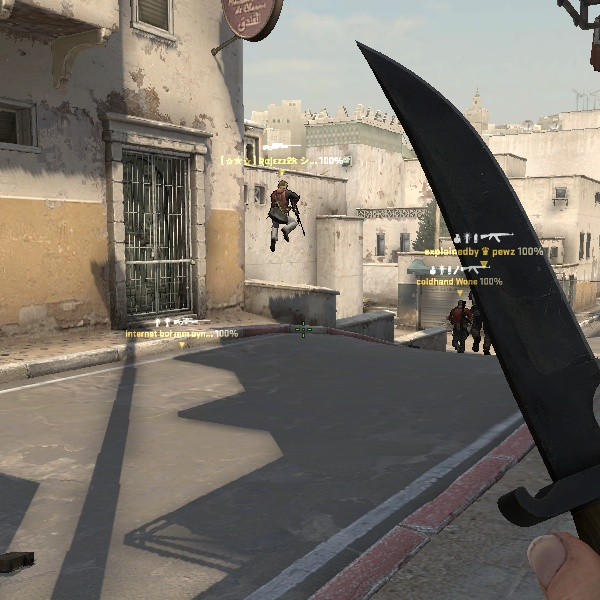t_body: (259, 173, 305, 254), (443, 297, 476, 356)
t_head: (275, 177, 292, 195), (454, 298, 468, 313)
